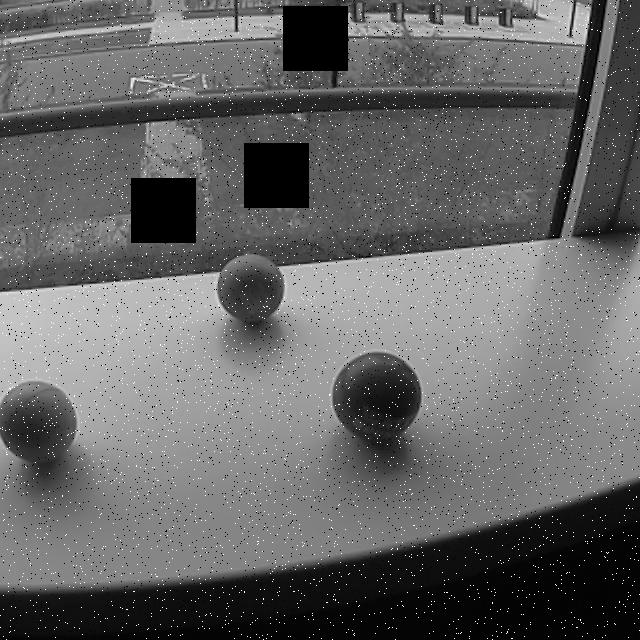ball: (330, 348, 425, 445), (2, 380, 80, 468), (214, 250, 287, 323)
